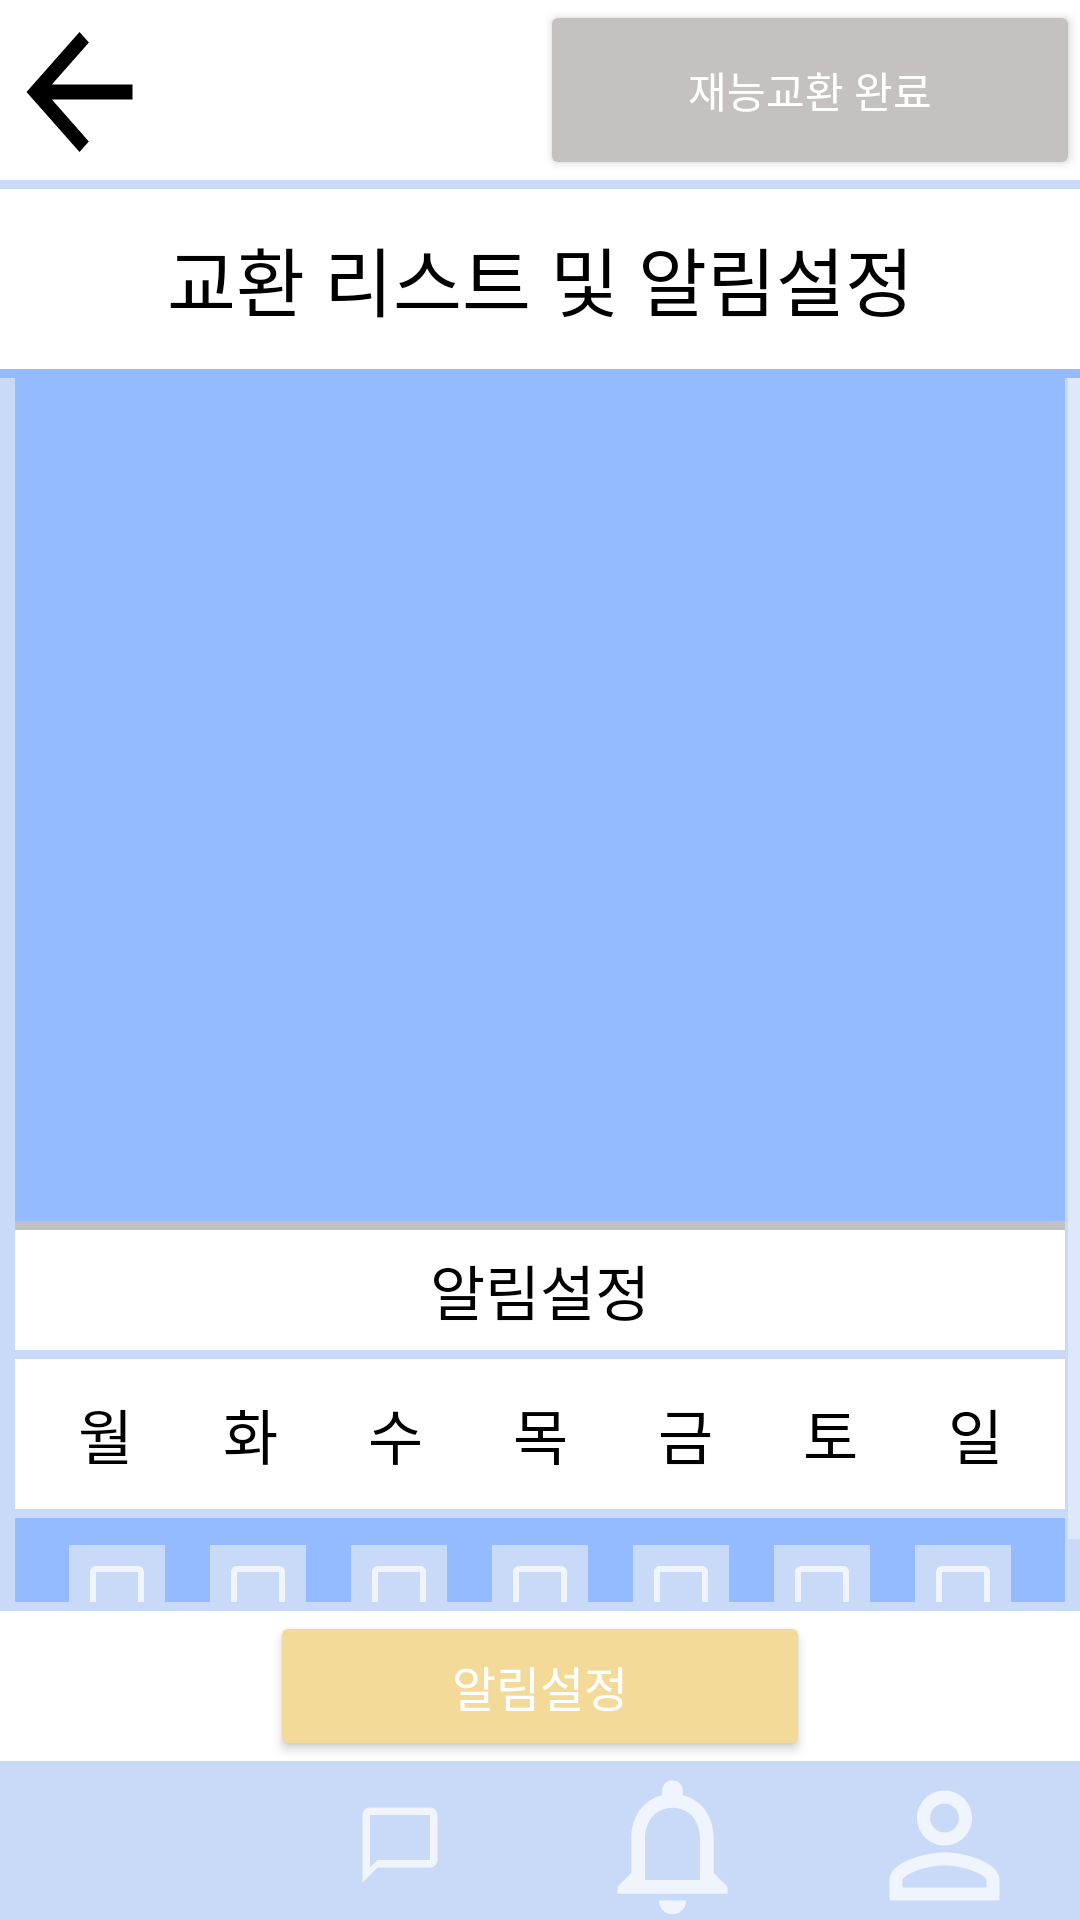

Icons on this 1080*1920 Android screen, each with the point to tap as point (x, y):
arrow back: point (79, 92)
chat bubble: point (400, 1844)
notifications none: point (672, 1847)
person: point (944, 1845)
